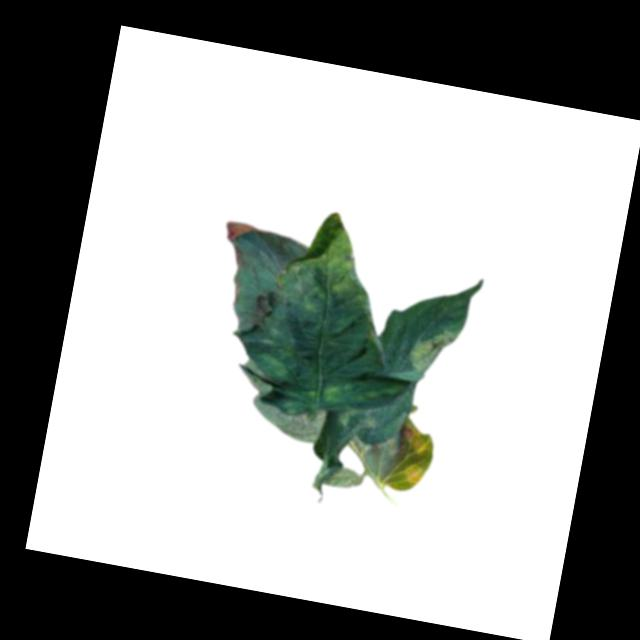Leaf_Mold: (387, 417, 439, 495), (403, 323, 460, 380), (231, 281, 283, 340), (270, 400, 336, 446)
